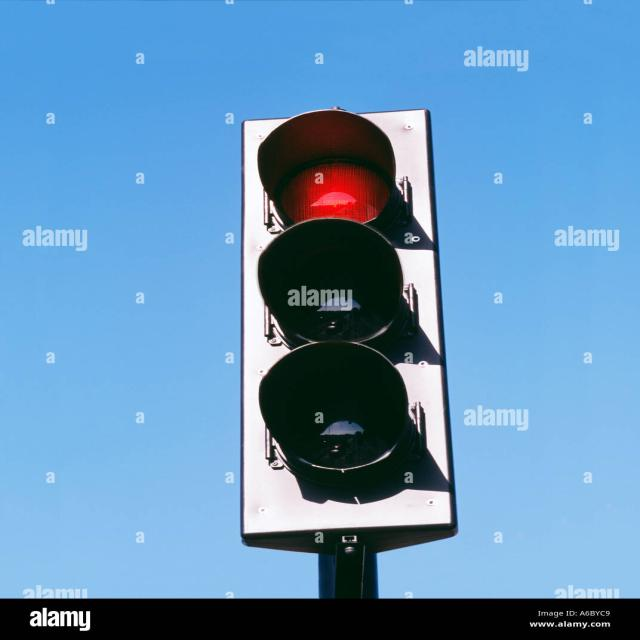red: (269, 142, 414, 238)
